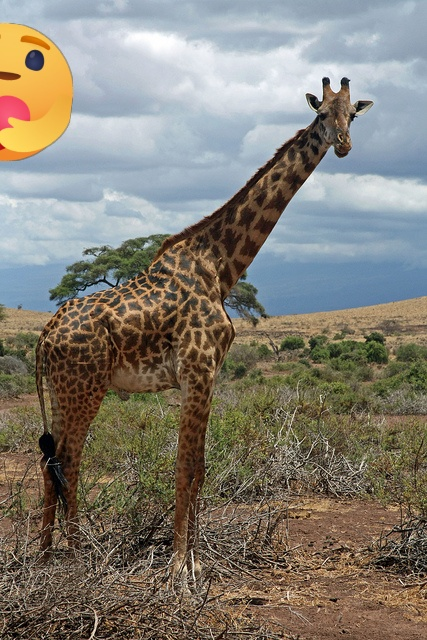care: (0, 23, 73, 161)
